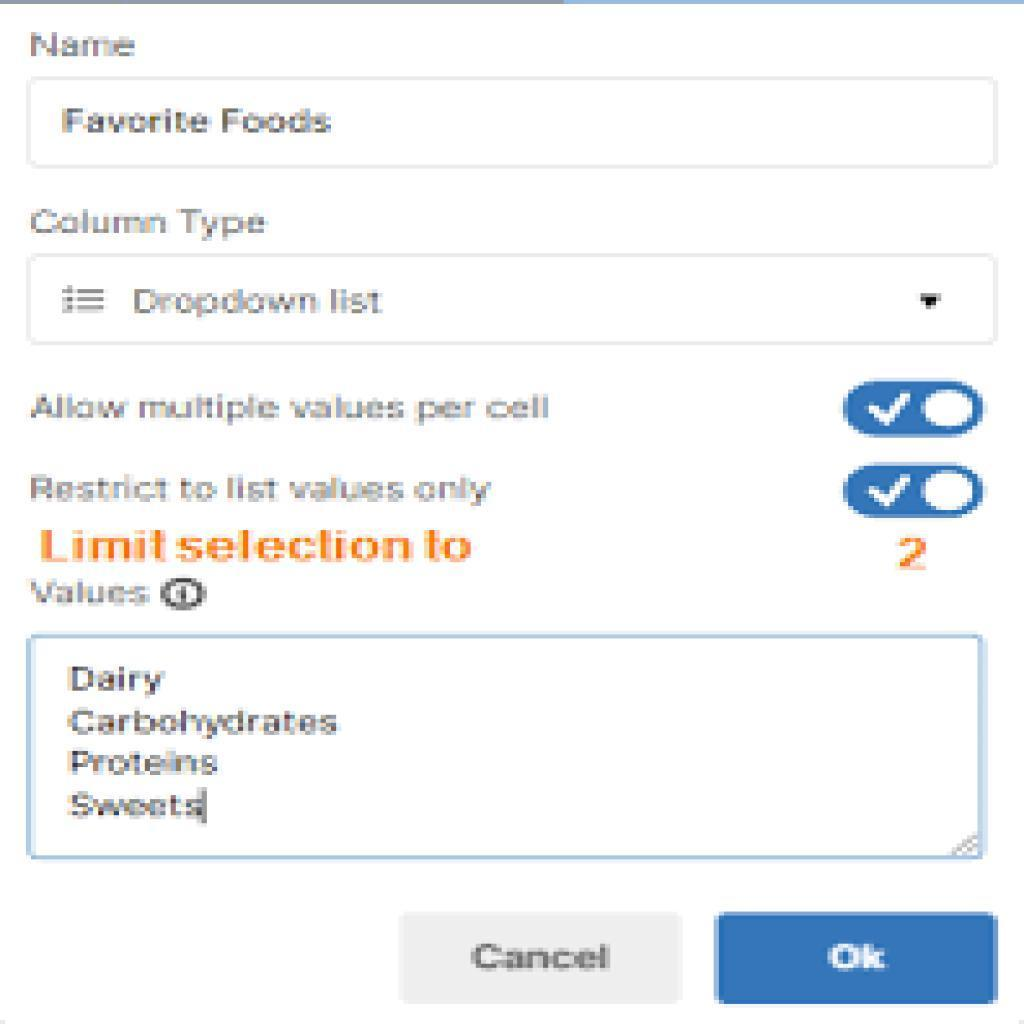button: (713, 912, 1003, 1011), (397, 911, 681, 1007)
dropdown: (28, 255, 998, 344)
input: (28, 76, 999, 172)
label: (28, 390, 550, 432), (29, 473, 501, 512), (30, 202, 269, 246), (24, 27, 135, 67)
switch: (846, 381, 984, 439), (844, 466, 984, 518)
